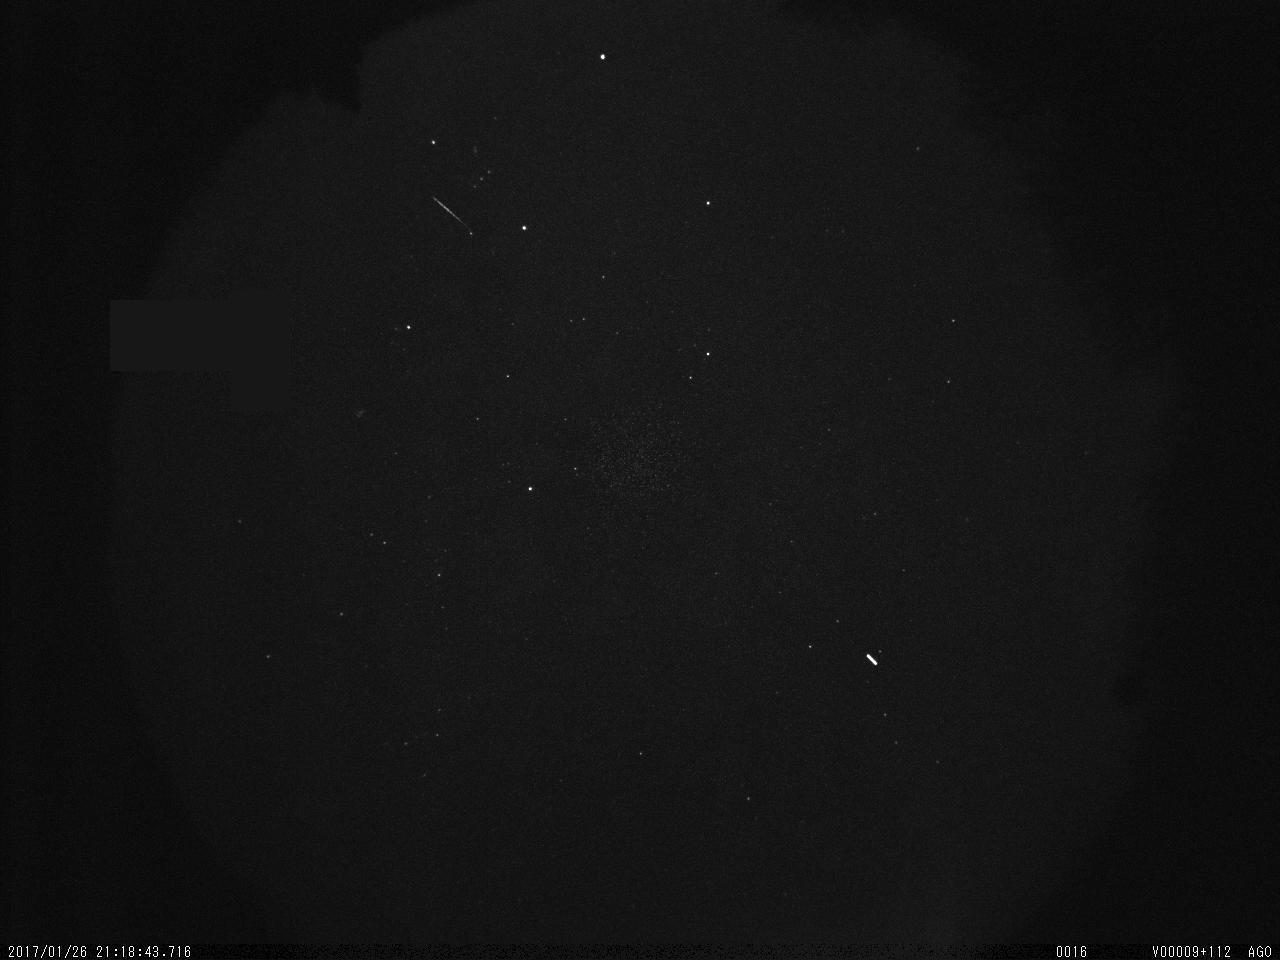Meteor: (422, 188, 470, 235)
